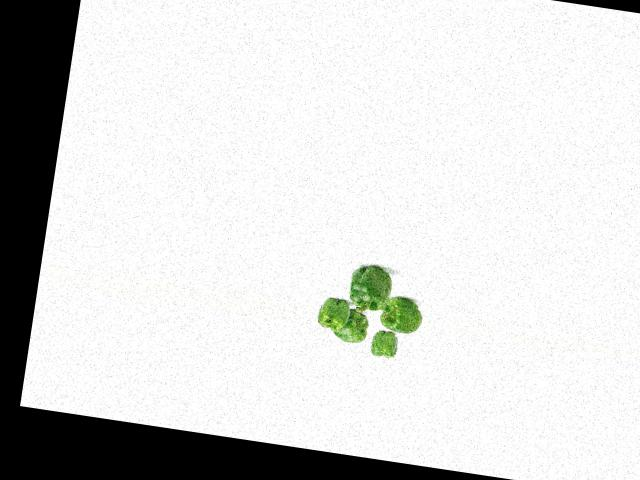bell_pepper: (316, 292, 354, 331)
